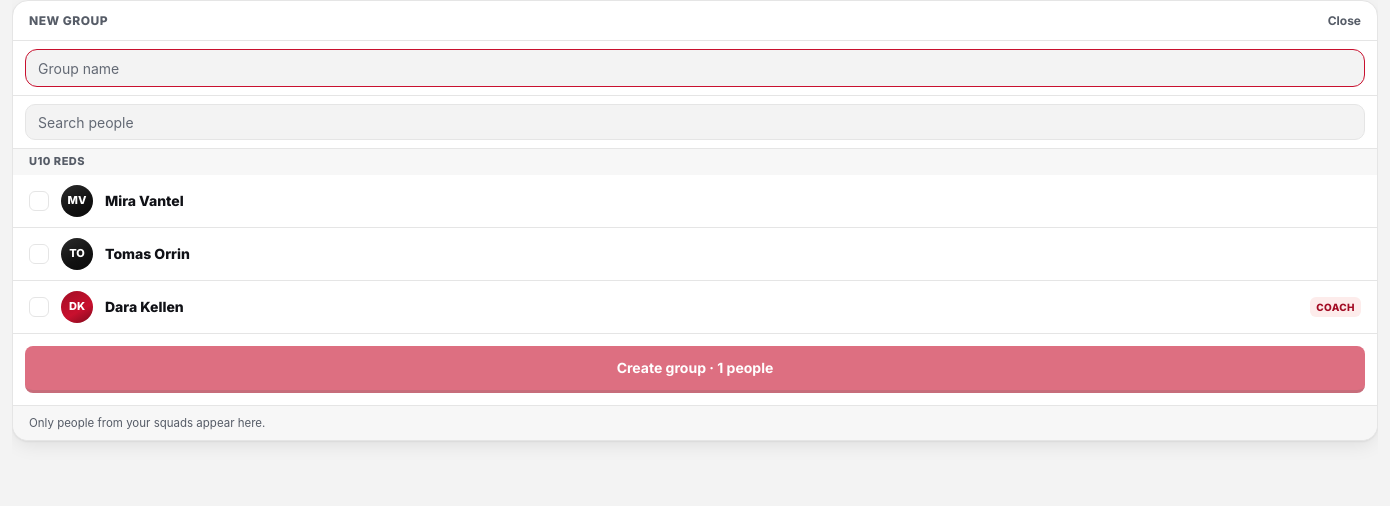
Test: NewGroupPicker › keeps Create disabled until a name and two people are picked
This screenshot has width=1390, height=506.
Check: the button "Create group · 1 people" is disabled, box [25, 346, 1365, 393]
Type "Zz Test Group" into the field with placeholder "Group name" at (695, 68), box [25, 49, 1365, 87]
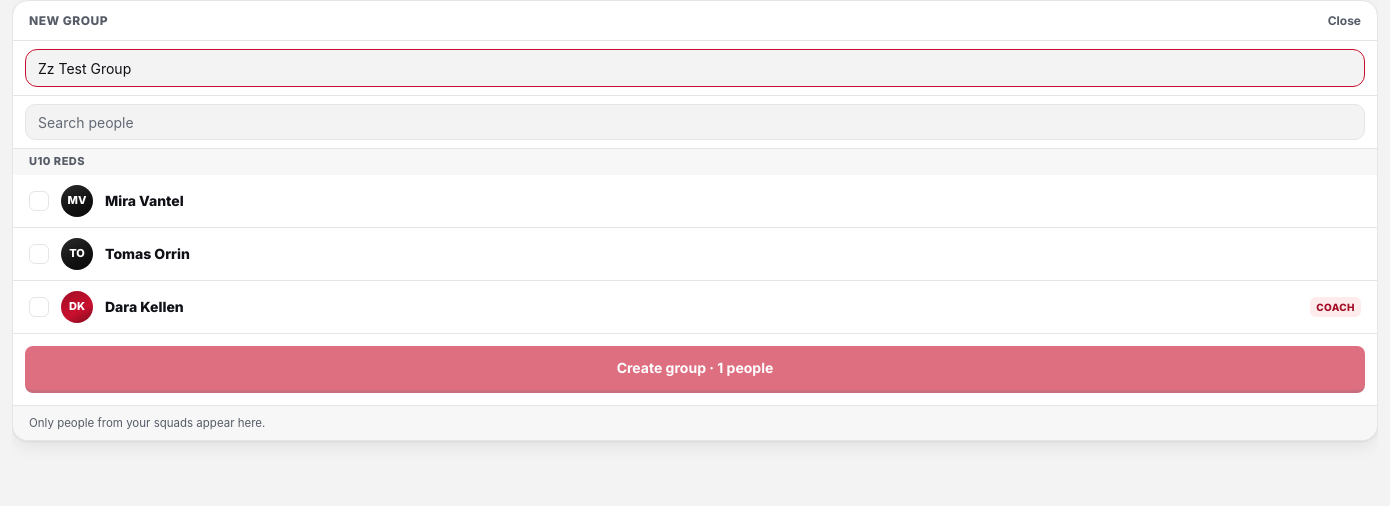
Click the text "Mira Vantel" at (144, 200), box [105, 192, 184, 209]
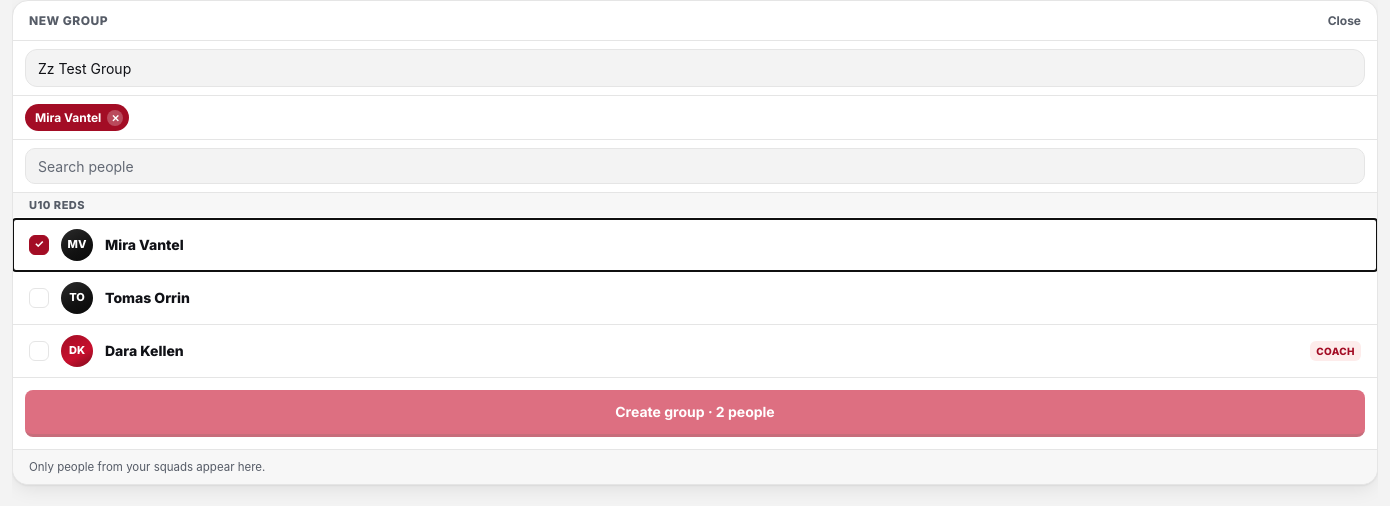
Check: the button "Create group · 2 people" is disabled, box [25, 390, 1365, 437]
Click the text "Tomas Orrin" at (147, 297), box [105, 289, 190, 306]
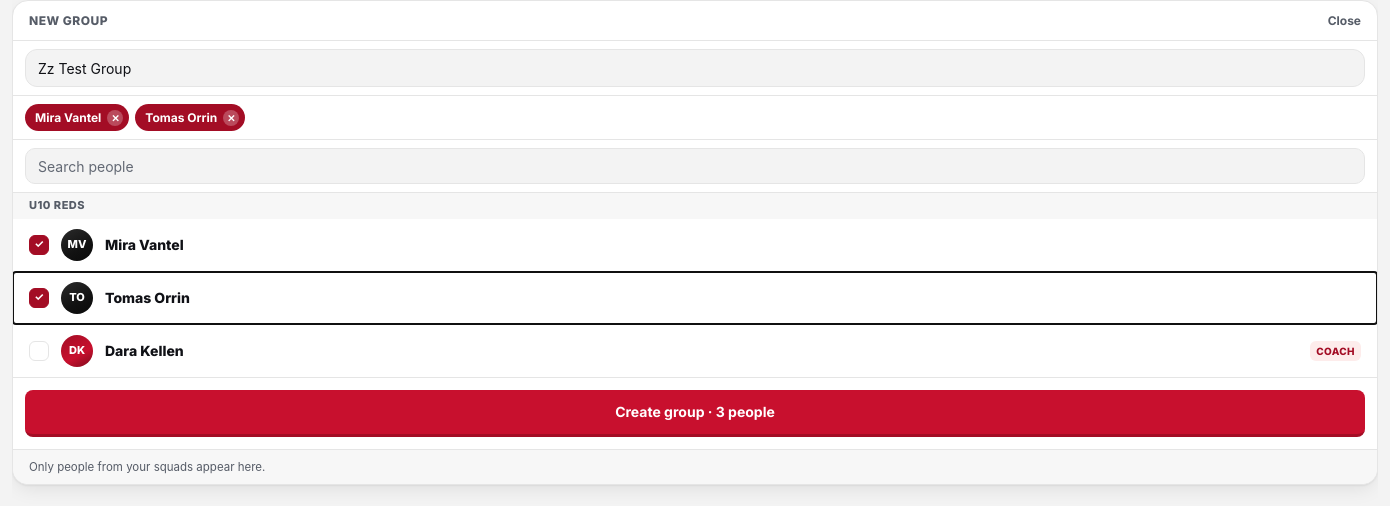
Check: the button "Create group · 3 people" is enabled, box [25, 390, 1365, 437]
